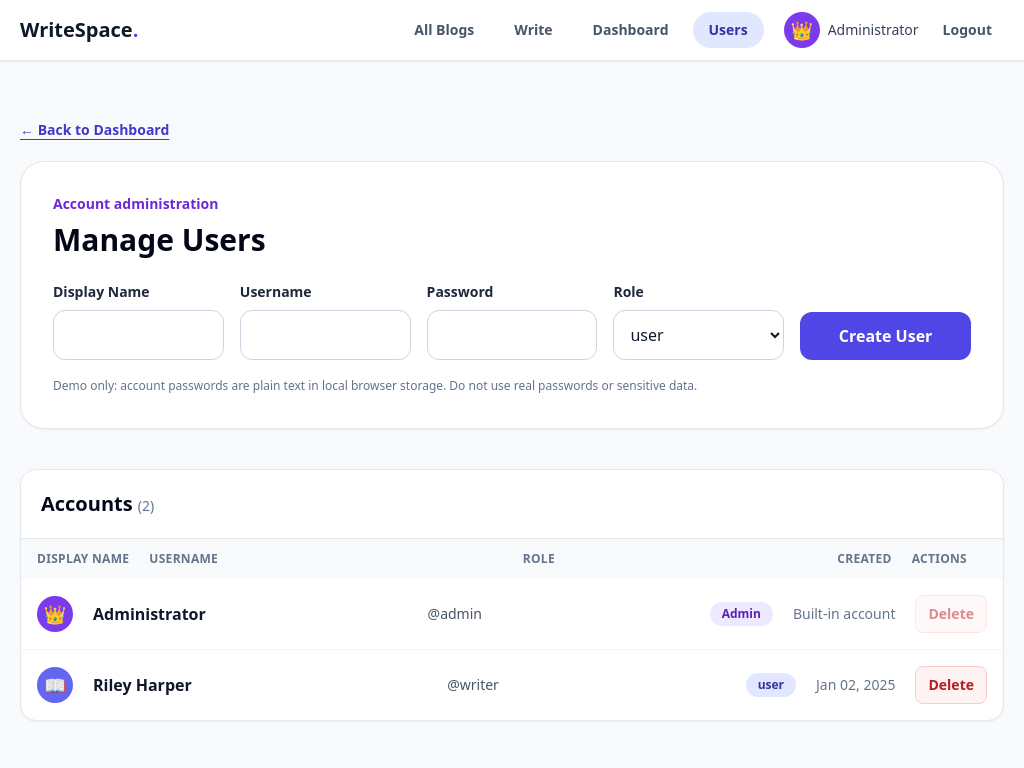
Scenario: administrator pages › deletes eligible registered users only after confirmation
The width and height of the screenshot is (1024, 768).
Click the button with aria-label "Delete Riley Harper". click: (951, 685)
box: [916, 666, 987, 704]
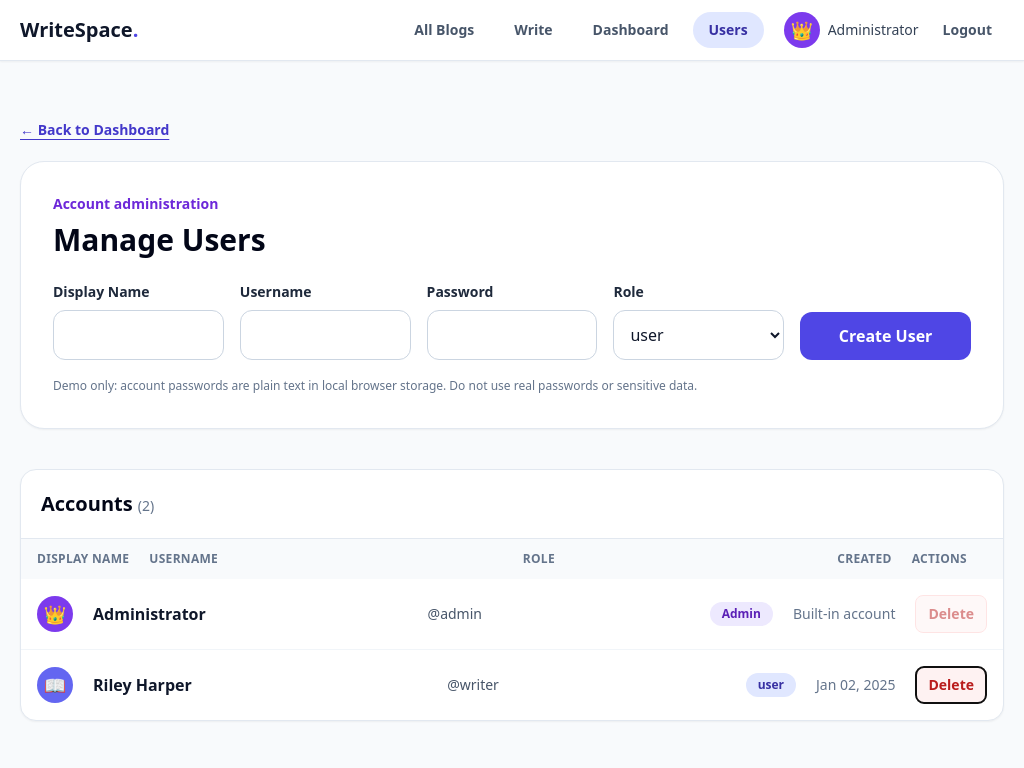
Click the button with aria-label "Delete Riley Harper". click: (951, 685)
box: [916, 666, 987, 704]
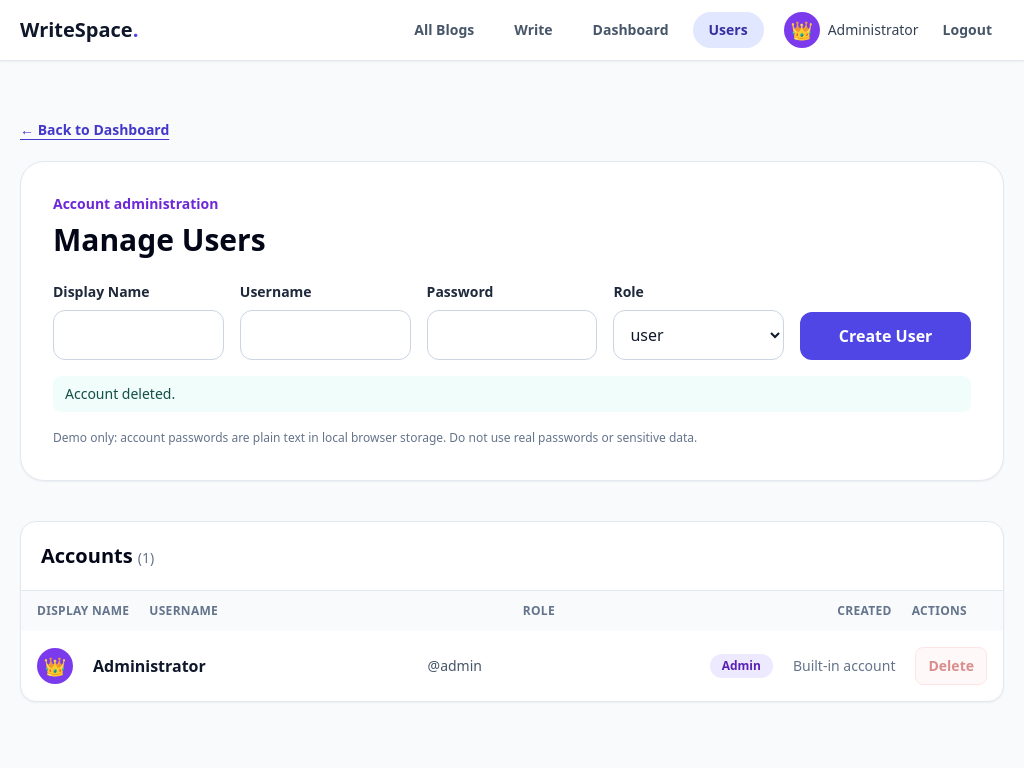
Check: the message reads "Account deleted.", box [65, 384, 175, 403]
